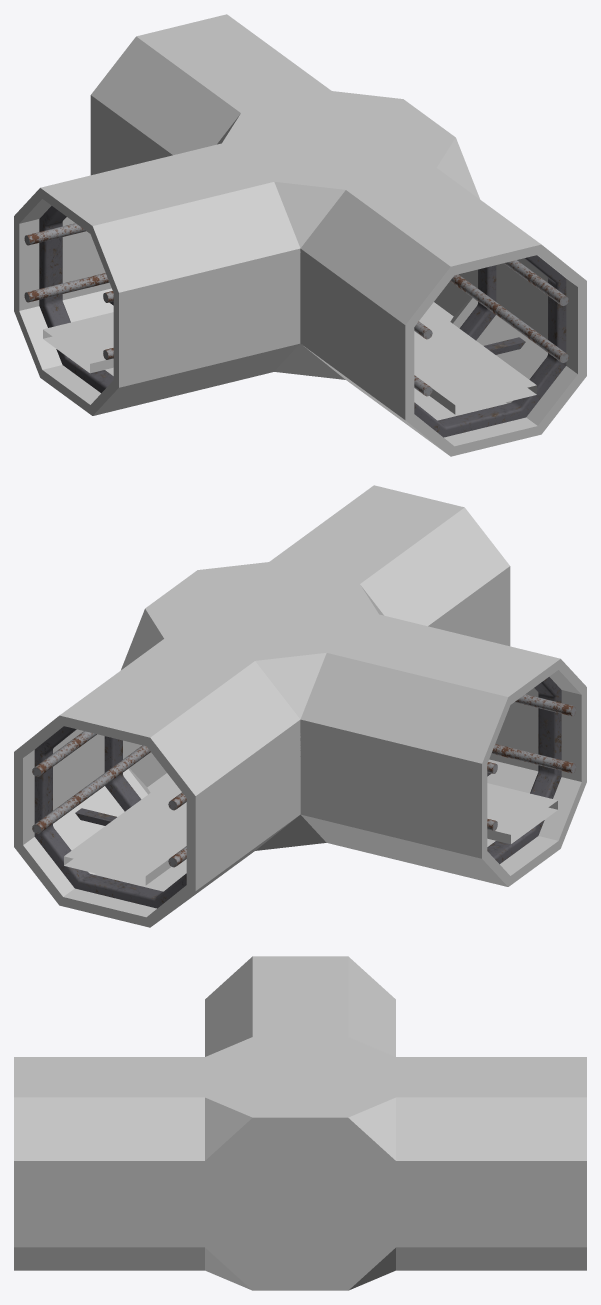
File: ProcGen_TJunc.fbx
The picture shows the model from 3 angles, top to bottom: view 1: azimuth 30°, elevation 25°; view 2: azimuth 150°, elevation 25°; view 3: azimuth 270°, elevation 25°; orthographic projection. The views are drawn at different scales.
Parts seen in each view (by area): view 1: Ceiling.001; view 2: Ceiling.001; view 3: Ceiling.001.
Part boxes in pixels (<box>): Ceiling.001: <box>14,14,586,456</box>; Ceiling.001: <box>14,485,586,927</box>; Ceiling.001: <box>14,956,586,1290</box>.
Size of the model in its own units: 1000 by 500 by 1500.
